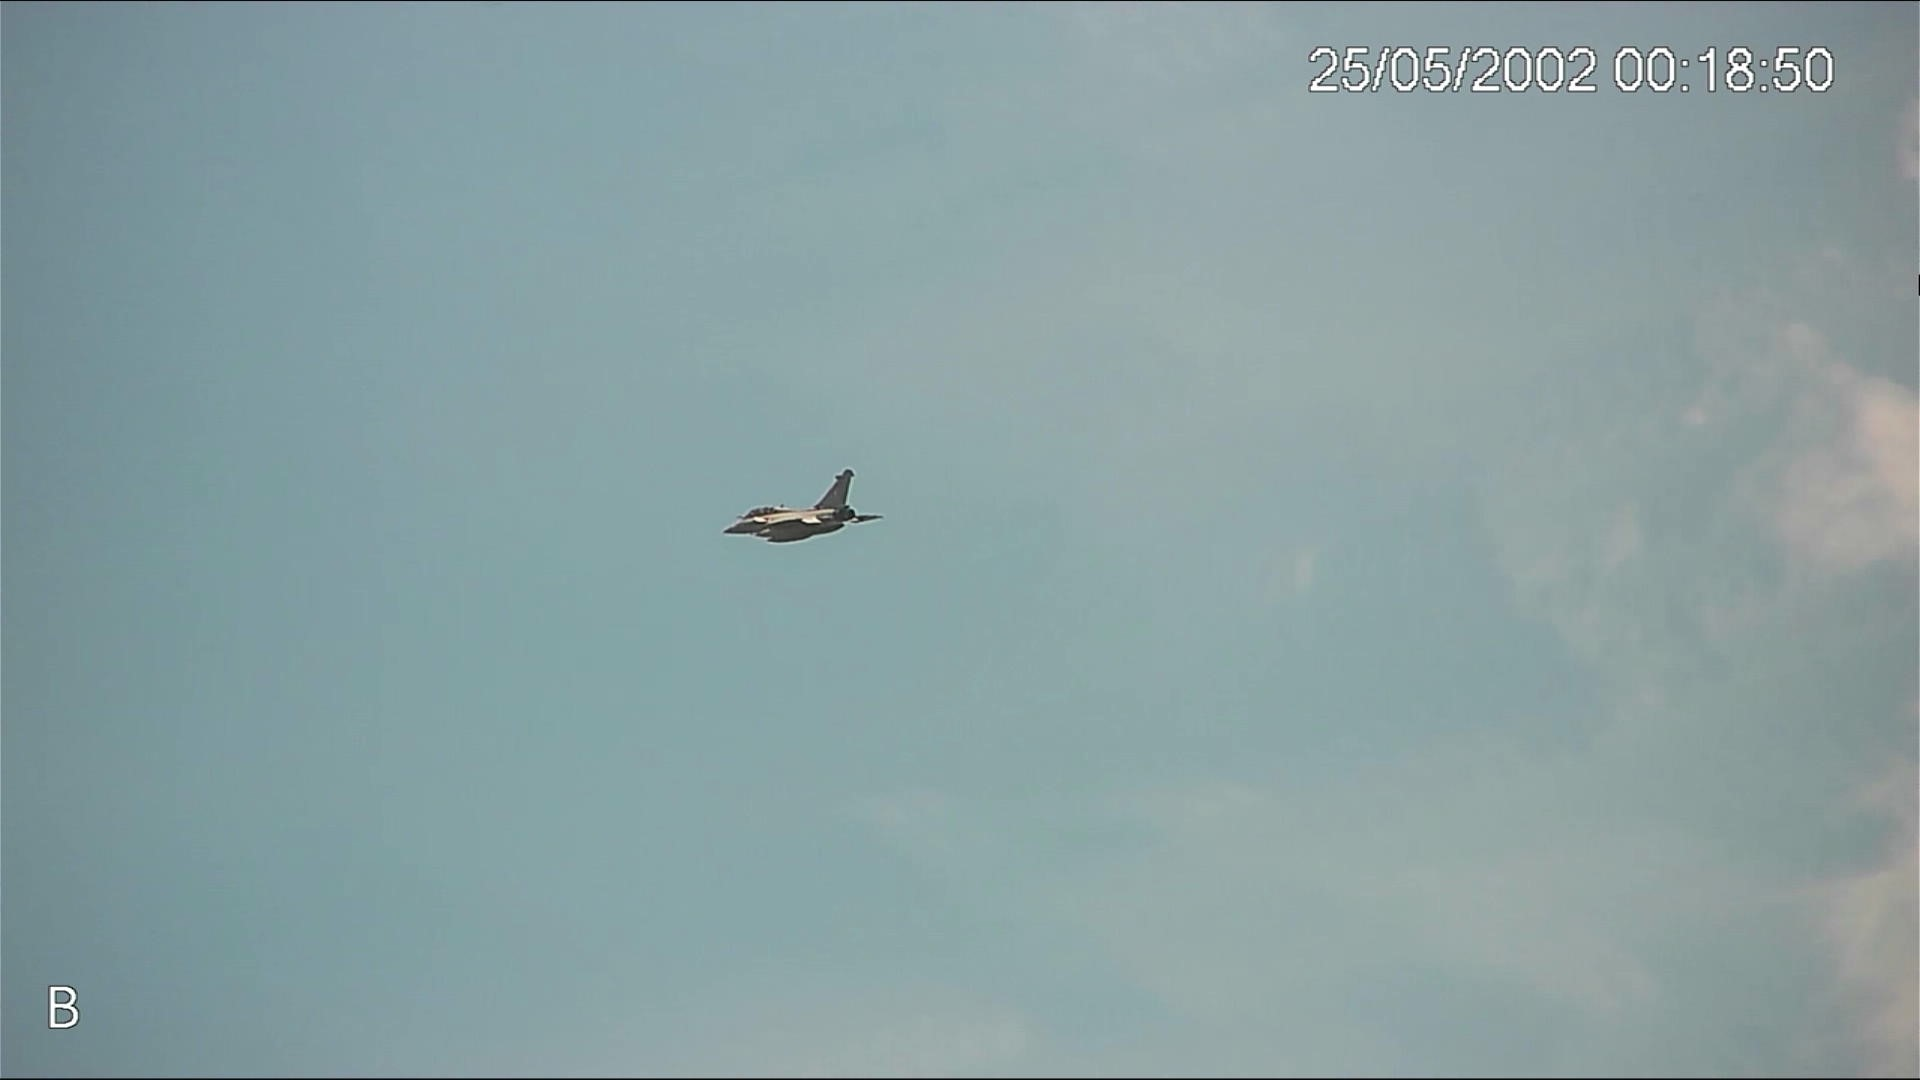SU_30: (720, 464, 882, 554)
